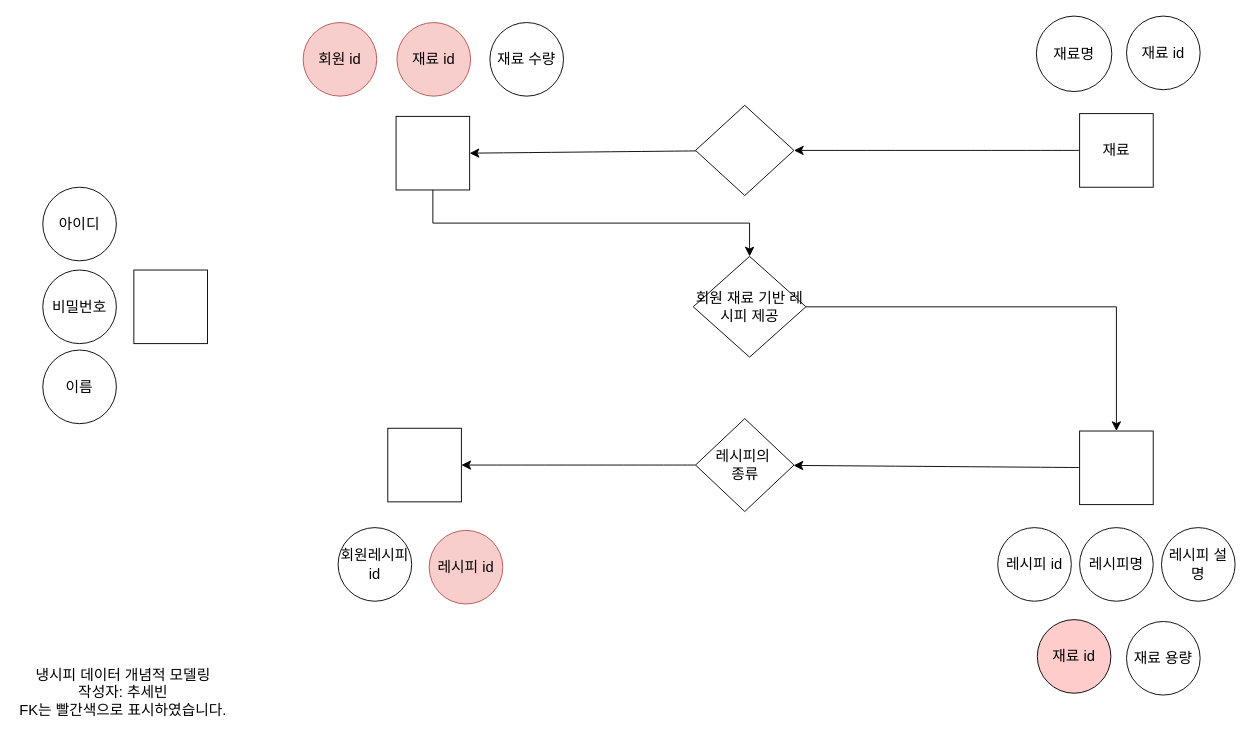
The diagram is 1251 pixels wide and 741 high, and some of its shapes have lost their labels. Each missing label, with the box of its shape:
레시피: (1079, 430, 1153, 505)
재료의 종류: (695, 104, 794, 196)
회원: (133, 269, 207, 344)
회원 레시피: (387, 427, 461, 502)
회원 재료: (395, 115, 470, 190)
